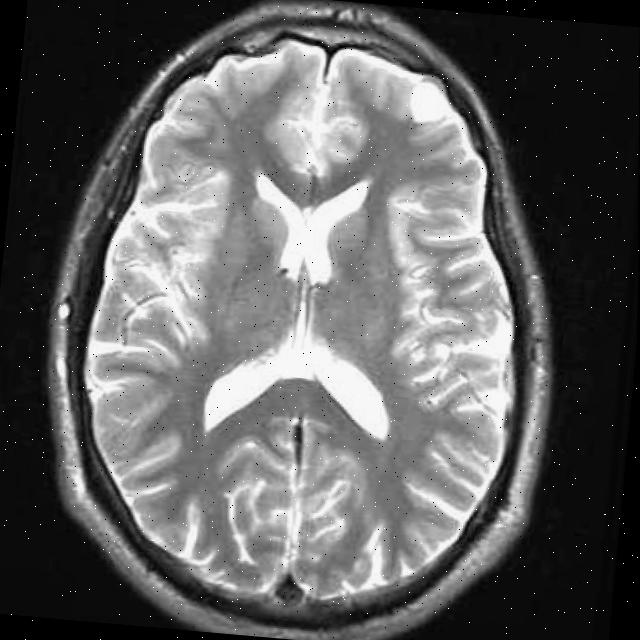NoTumor: (21, 0, 588, 640)
